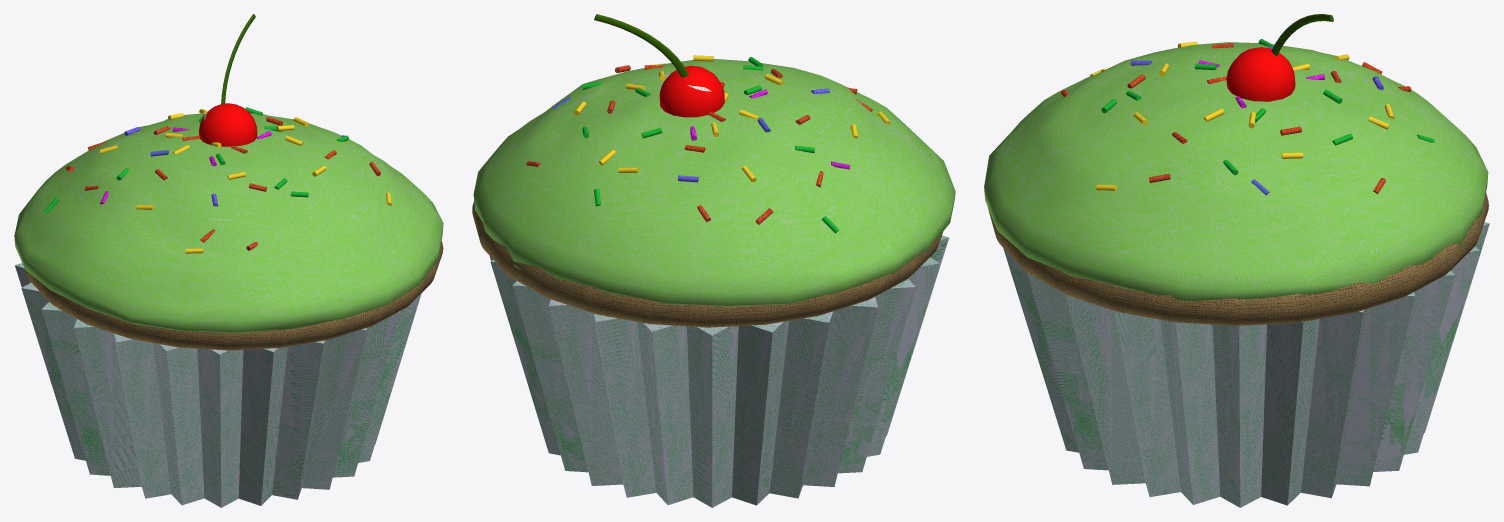
Rendered from Cupcake.dae.
The picture shows the model from 3 angles, left to right: view 1: azimuth 30°, elevation 25°; view 2: azimuth 150°, elevation 25°; view 3: azimuth 270°, elevation 25°; orthographic projection. The views are drawn at different scales.
Parts seen in each view (by area): view 1: group_10, group_4, group_5, group_0; view 2: group_10, group_4, group_5, group_0, group_1; view 3: group_10, group_4, group_5, group_0, group_1.
Boxes of the visible parts, x1=… form: group_10: x1=14, y1=113, x2=443, y2=332; group_4: x1=15, y1=263, x2=421, y2=507; group_5: x1=25, y1=241, x2=443, y2=350; group_0: x1=198, y1=103, x2=257, y2=146; group_10: x1=473, y1=58, x2=955, y2=306; group_4: x1=489, y1=235, x2=948, y2=507; group_5: x1=472, y1=201, x2=943, y2=327; group_0: x1=659, y1=65, x2=724, y2=117; group_1: x1=594, y1=14, x2=689, y2=77; group_10: x1=984, y1=42, x2=1488, y2=301; group_4: x1=1003, y1=222, x2=1489, y2=507; group_5: x1=987, y1=192, x2=1488, y2=325; group_0: x1=1226, y1=47, x2=1295, y2=101; group_1: x1=1271, y1=14, x2=1333, y2=56.
Size of the model in its own units: 32.41 by 32.16 by 32.
12 materials, 4 textured.
